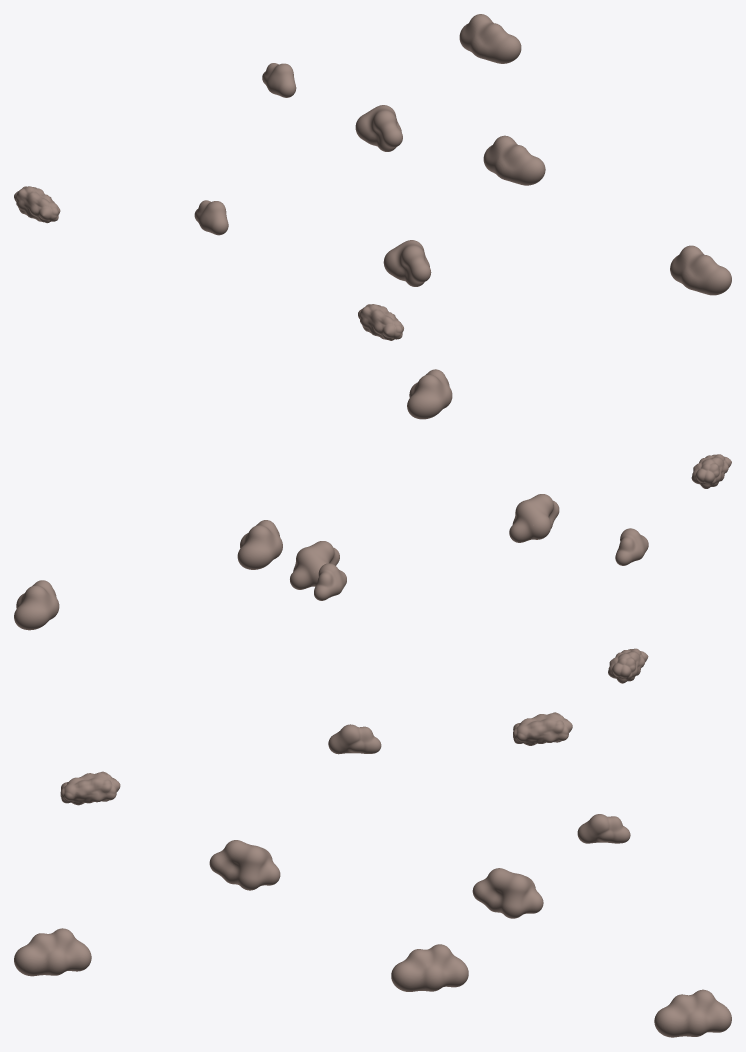
The model's file is Bad Cloud.glb.
3 views of the same model, one above another, from view 1: azimuth 30°, elevation 25°; view 2: azimuth 150°, elevation 25°; view 3: azimuth 270°, elevation 25° (orthographic). The views are drawn at different scales.
Visible parts, largest first — view 1: Mball.006, Mball.001, Mball.002, Mball.005, Mball.023, 棱角球.001, 棱角球, Mball.003, Mball.004; view 2: Mball.023, Mball.006, Mball.002, Mball.001, Mball.005, 棱角球, 棱角球.001, Mball.004, Mball.003; view 3: Mball.006, Mball.002, Mball.001, Mball.023, Mball.005, 棱角球, 棱角球.001, Mball.003, Mball.004.
Part boxes in pixels (left/top/right/bottom): Mball.006: left=670, top=245, right=731, bottom=295; Mball.001: left=483, top=135, right=545, bottom=185; Mball.002: left=459, top=14, right=521, bottom=63; Mball.005: left=355, top=105, right=402, bottom=151; Mball.023: left=383, top=240, right=431, bottom=286; 棱角球.001: left=14, top=186, right=60, bottom=223; 棱角球: left=358, top=304, right=403, bottom=340; Mball.003: left=262, top=63, right=296, bottom=97; Mball.004: left=194, top=200, right=228, bottom=235; Mball.023: left=509, top=494, right=559, bottom=542; Mball.006: left=407, top=369, right=452, bottom=419; Mball.002: left=14, top=580, right=59, bottom=630; Mball.001: left=237, top=520, right=282, bottom=569; Mball.005: left=290, top=541, right=339, bottom=589; 棱角球: left=691, top=454, right=731, bottom=488; 棱角球.001: left=608, top=648, right=648, bottom=683; Mball.004: left=615, top=528, right=648, bottom=565; Mball.003: left=314, top=563, right=346, bottom=600; Mball.006: left=14, top=928, right=91, bottom=976; Mball.002: left=654, top=989, right=731, bottom=1037; Mball.001: left=391, top=944, right=468, bottom=991; Mball.023: left=209, top=840, right=280, bottom=890; Mball.005: left=472, top=868, right=543, bottom=918; 棱角球: left=60, top=771, right=120, bottom=805; 棱角球.001: left=513, top=712, right=572, bottom=745; Mball.003: left=577, top=814, right=630, bottom=843; Mball.004: left=328, top=724, right=381, bottom=754.
Size of the model in its own units: 52.36 by 8.24 by 55.42.
